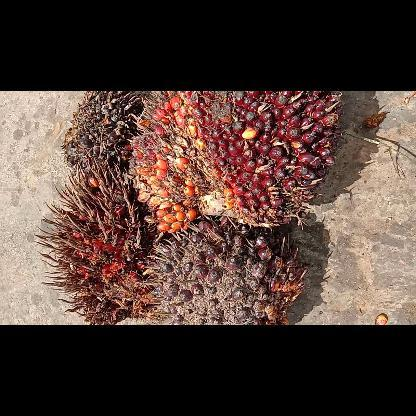Kurang masak: (136, 216, 306, 324)
TBS abnormal: (62, 90, 146, 178)
TBS masak: (130, 90, 341, 233)
Terlalu masak: (40, 160, 158, 324)
